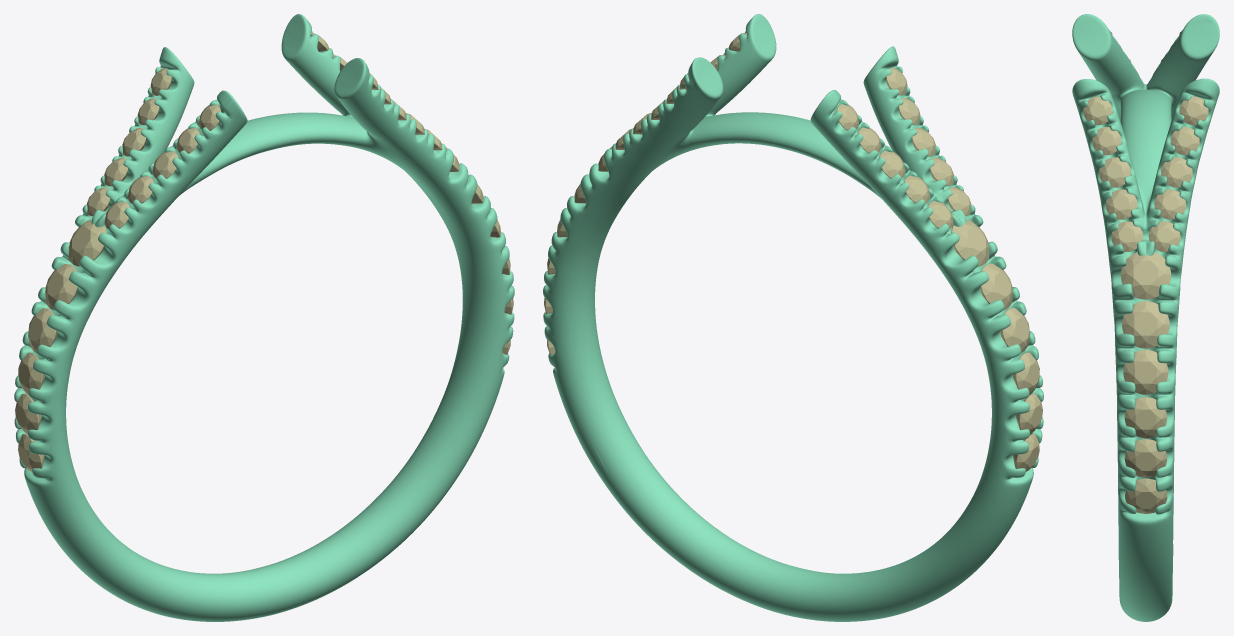
The picture shows the model from 3 angles, left to right: view 1: azimuth 30°, elevation 25°; view 2: azimuth 150°, elevation 25°; view 3: azimuth 270°, elevation 25°; orthographic projection.
Parts seen in each view (by area): view 1: Metal02, Diamond_Gem.026, Diamond_Gem.027, Diamond_Gem.028, Diamond_Gem.029; view 2: Metal02, Diamond_Gem.026, Diamond_Gem.027, Diamond_Gem.028, Diamond_Gem.029; view 3: Metal02, Diamond_Gem.005, Diamond_Gem.004, Diamond_Gem.003, Diamond_Gem.002, Diamond_Gem.001, Diamond_Gem, Diamond_Gem.009, Diamond_Gem.014, Diamond_Gem.013, Diamond_Gem.015, Diamond_Gem.006 (+5 smaller).
Part boxes in pixels (x1,y1,x2,y2): Metal02: [14, 14, 514, 621]; Diamond_Gem.026: [68, 219, 106, 266]; Diamond_Gem.027: [45, 264, 77, 310]; Diamond_Gem.028: [28, 308, 57, 352]; Diamond_Gem.029: [18, 352, 44, 394]; Metal02: [543, 14, 1043, 621]; Diamond_Gem.026: [951, 219, 989, 266]; Diamond_Gem.027: [980, 263, 1012, 310]; Diamond_Gem.028: [1000, 308, 1029, 352]; Diamond_Gem.029: [1013, 352, 1039, 394]; Metal02: [1072, 14, 1219, 621]; Diamond_Gem.005: [1120, 252, 1171, 299]; Diamond_Gem.004: [1122, 301, 1169, 348]; Diamond_Gem.003: [1123, 349, 1168, 394]; Diamond_Gem.002: [1124, 397, 1167, 438]; Diamond_Gem.001: [1124, 439, 1167, 477]; Diamond_Gem: [1125, 478, 1167, 513]; Diamond_Gem.009: [1105, 189, 1137, 219]; Diamond_Gem.014: [1154, 189, 1186, 219]; Diamond_Gem.013: [1161, 157, 1192, 187]; Diamond_Gem.015: [1148, 221, 1180, 251]; Diamond_Gem.006: [1111, 221, 1142, 251].
Size of the model in its own units: 20.83 by 22.88 by 5.56.
